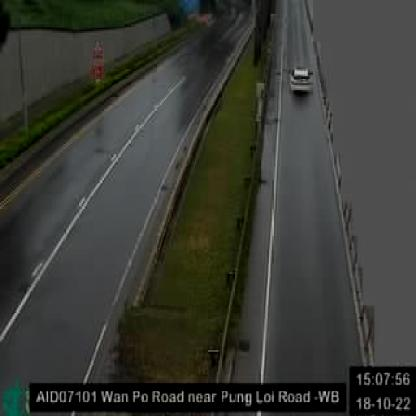Car: (288, 64, 312, 96)
